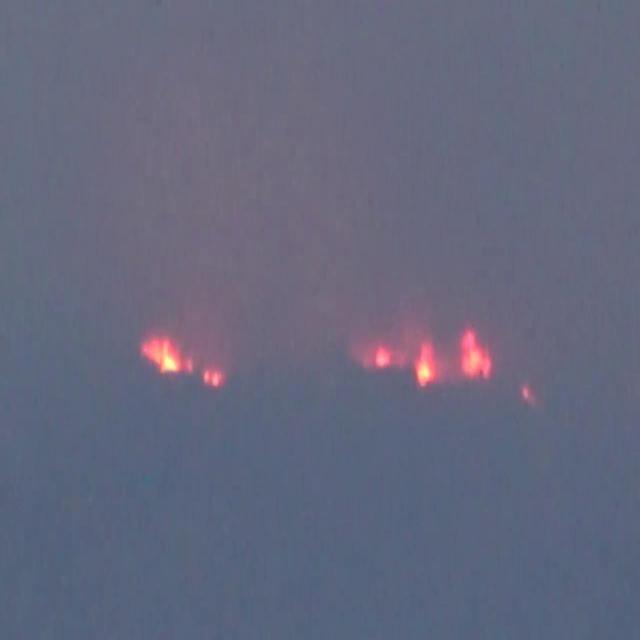Fire: (142, 338, 192, 376), (460, 337, 490, 377), (413, 344, 435, 383), (200, 367, 224, 388), (372, 347, 390, 367)
